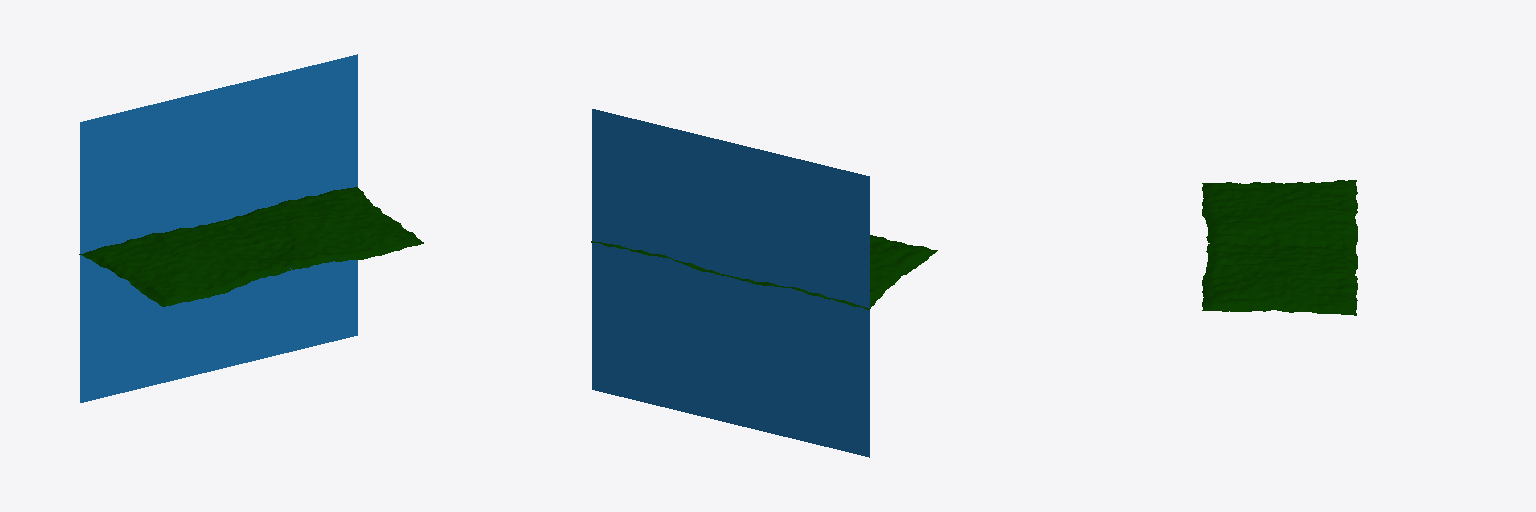
File: background_grass_sky.obj
3 views of the same model, side by side, from view 1: azimuth 30°, elevation 25°; view 2: azimuth 150°, elevation 25°; view 3: azimuth 270°, elevation 25° (orthographic).
Parts seen in each view (by area): view 1: Sky_Plane.001, Grass_Plane; view 2: Sky_Plane.001, Grass_Plane; view 3: Grass_Plane.
Part boxes in pixels (bbox=[...]): Sky_Plane.001: bbox=[80, 54, 357, 402]; Grass_Plane: bbox=[79, 187, 423, 306]; Sky_Plane.001: bbox=[592, 109, 869, 457]; Grass_Plane: bbox=[591, 235, 937, 309]; Grass_Plane: bbox=[1202, 180, 1357, 315].
Bounding box in the file's own units: 44.28 × 42.66 × 21.56.